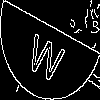W: (25, 24, 69, 84)
